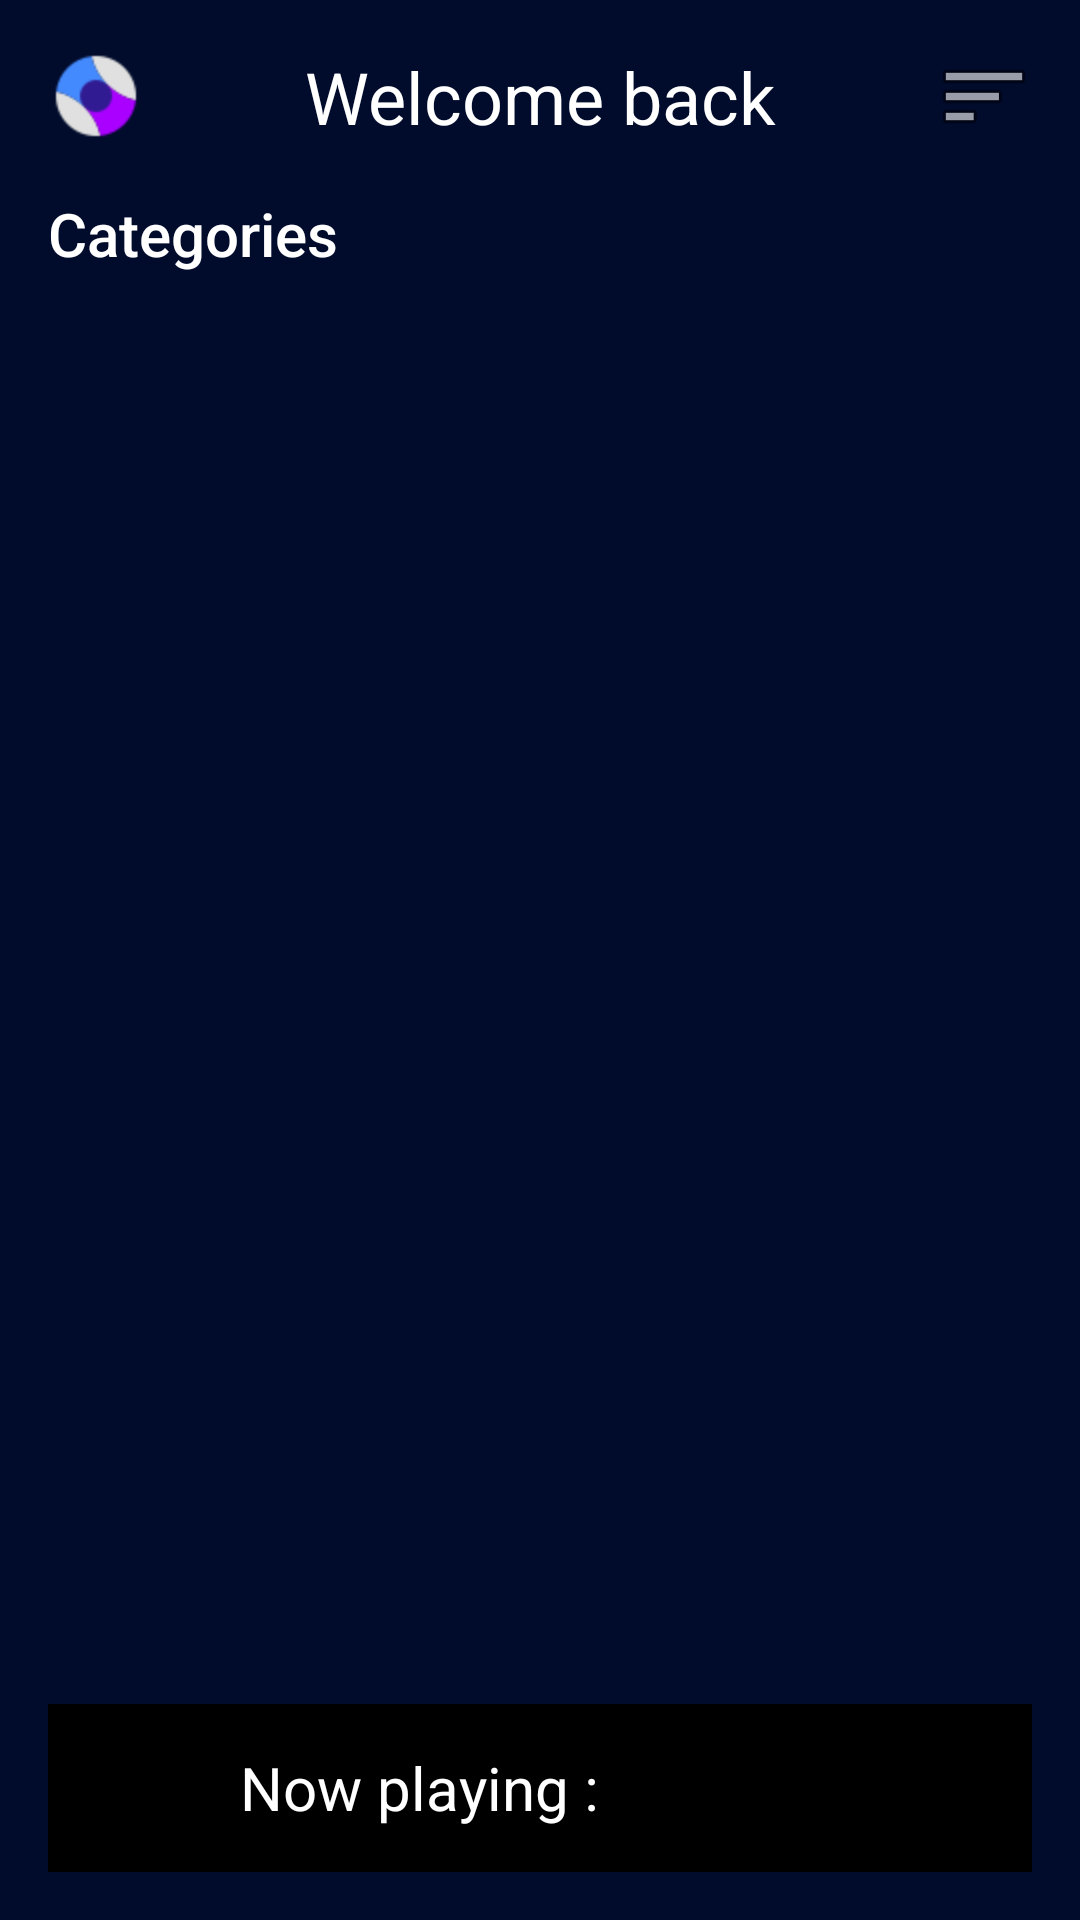

Where to tap for icons on this 1080w x 1920h app screen, as [x,y]:
sort by size: [984,96]
